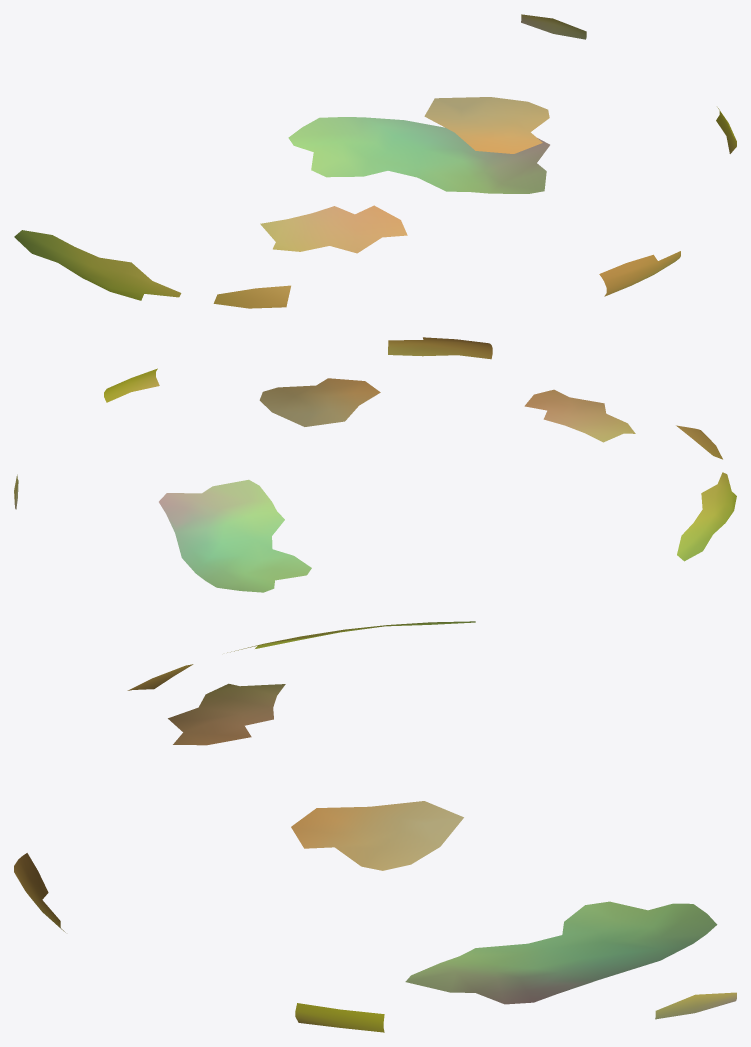
Rendered from space-galaxies-irregular-galaxy_v9.glb.
The picture shows the model from 3 angles, top to bottom: view 1: azimuth 30°, elevation 25°; view 2: azimuth 150°, elevation 25°; view 3: azimuth 270°, elevation 25°; orthographic projection. The views are drawn at different scales.
Visible parts, largest first — view 1: Irregular Galaxy_v9; view 2: Irregular Galaxy_v9; view 3: Irregular Galaxy_v9.
Boxes of the visible parts, box(x1,y1,x2,y2) form: Irregular Galaxy_v9: box(14, 14, 736, 308); Irregular Galaxy_v9: box(14, 337, 736, 592); Irregular Galaxy_v9: box(14, 621, 736, 1032).
Bounding box in the file's own units: 0.5 × 0.073 × 0.3906.
